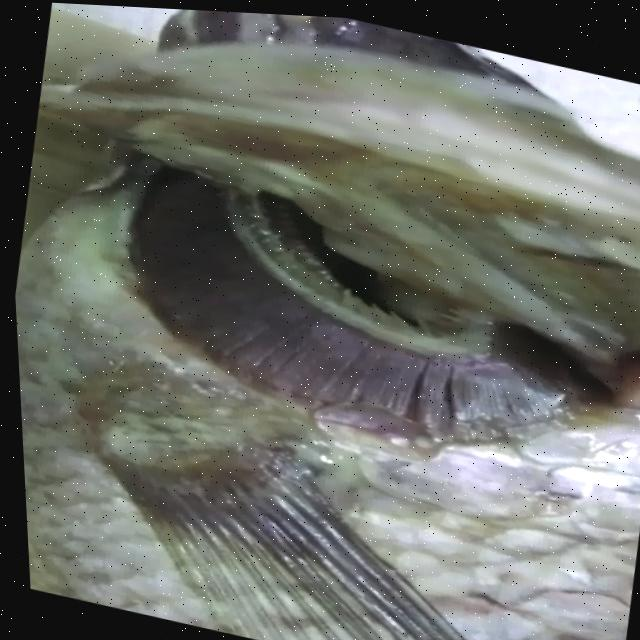Non-Fresh: (37, 143, 630, 491)
